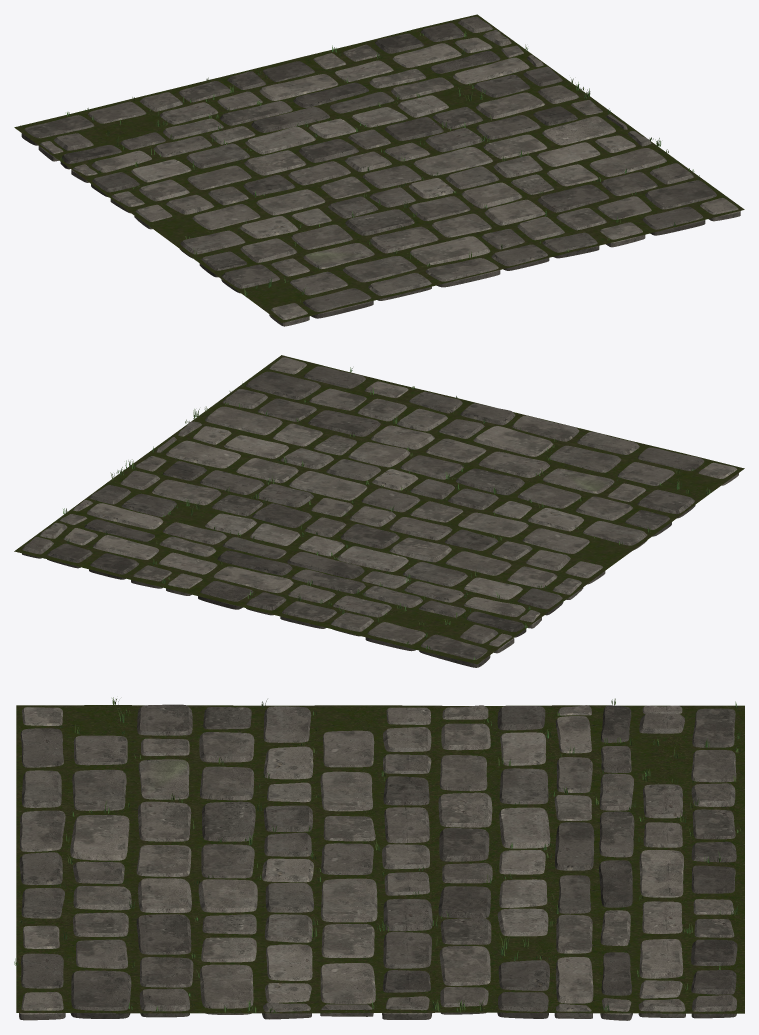
File: ER_Sol_Dalles_Herbe_8x8m.gltf
3 renders of one model, top to bottom at view 1: azimuth 30°, elevation 25°; view 2: azimuth 150°, elevation 25°; view 3: azimuth 270°, elevation 25°, orthographic. The views are drawn at different scales.
Visible parts, largest first — view 1: ER_Sol_Dalles_Herbe_8x8m_DAL.001, ER_Sol_Dalles_Herbe_8x8m_TER.001, ER_Sol_Dalles_Herbe_8x8m_HER.001; view 2: ER_Sol_Dalles_Herbe_8x8m_DAL.001, ER_Sol_Dalles_Herbe_8x8m_TER.001, ER_Sol_Dalles_Herbe_8x8m_HER.001; view 3: ER_Sol_Dalles_Herbe_8x8m_DAL.001, ER_Sol_Dalles_Herbe_8x8m_TER.001, ER_Sol_Dalles_Herbe_8x8m_HER.001.
Boxes of the visible parts, box(x1,y1,x2,y2) form: ER_Sol_Dalles_Herbe_8x8m_DAL.001: box(21, 16, 740, 326); ER_Sol_Dalles_Herbe_8x8m_TER.001: box(14, 14, 744, 322); ER_Sol_Dalles_Herbe_8x8m_HER.001: box(20, 31, 699, 301); ER_Sol_Dalles_Herbe_8x8m_DAL.001: box(22, 357, 738, 667); ER_Sol_Dalles_Herbe_8x8m_TER.001: box(14, 355, 744, 664); ER_Sol_Dalles_Herbe_8x8m_HER.001: box(63, 367, 710, 659); ER_Sol_Dalles_Herbe_8x8m_DAL.001: box(19, 704, 737, 1020); ER_Sol_Dalles_Herbe_8x8m_TER.001: box(16, 705, 744, 1013); ER_Sol_Dalles_Herbe_8x8m_HER.001: box(14, 697, 742, 1012).
Size of the model in its own units: 8.08 by 0.3181 by 8.03.
Materials: 3 (2 with a texture image).
